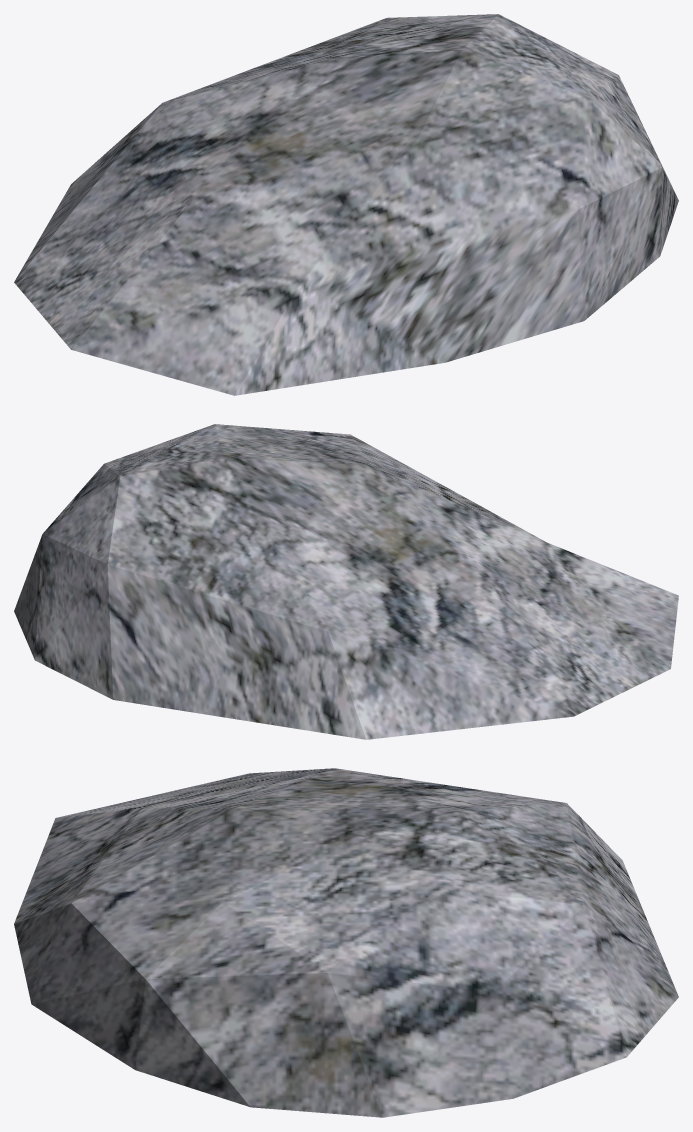
File: des_rockfl1_.obj
3 views of the same model, one above another, from view 1: azimuth 30°, elevation 25°; view 2: azimuth 150°, elevation 25°; view 3: azimuth 270°, elevation 25° (orthographic). The views are drawn at different scales.
Parts seen in each view (by area): view 1: des_rockfl1_; view 2: des_rockfl1_; view 3: des_rockfl1_.
Part boxes in pixels (<box>): des_rockfl1_: <box>14,14,678,395</box>; des_rockfl1_: <box>14,424,678,739</box>; des_rockfl1_: <box>14,768,678,1117</box>.
Size of the model in its own units: 52.72 by 12.8 by 42.81.
1 material, 1 textured.
